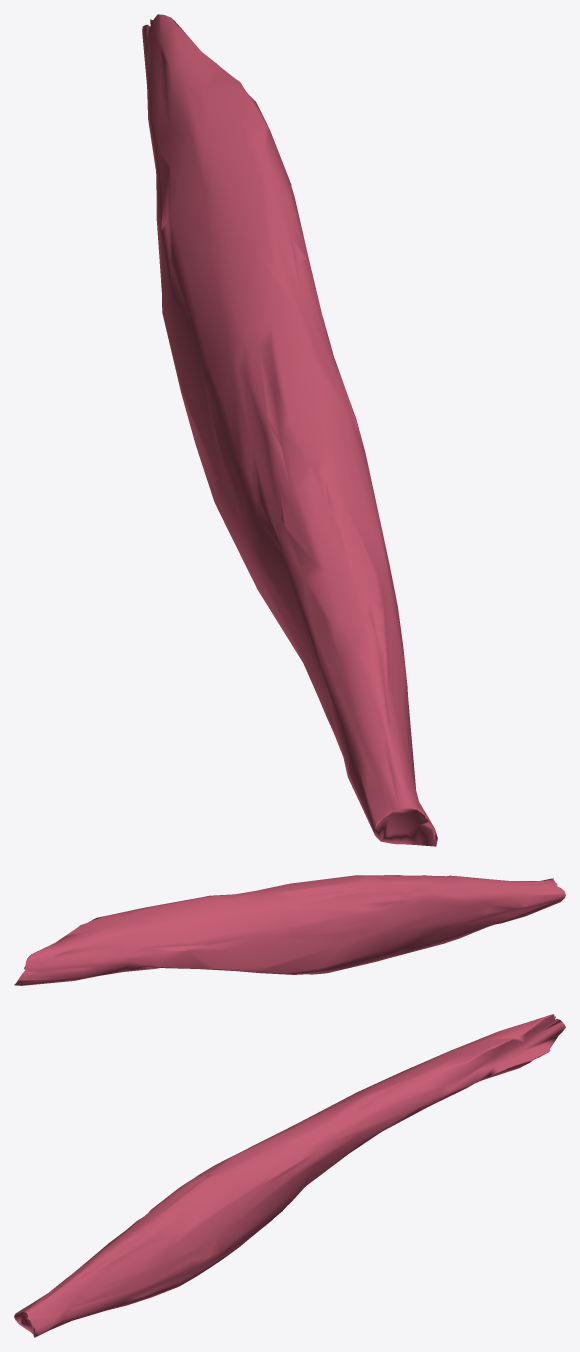
3 renders of one model, top to bottom at view 1: azimuth 30°, elevation 25°; view 2: azimuth 150°, elevation 25°; view 3: azimuth 330°, elevation 25°, orthographic. The views are drawn at different scales.
Parts seen in each view (by area): view 1: 左侧喙肱肌; view 2: 左侧喙肱肌; view 3: 左侧喙肱肌.
Part boxes in pixels (bbox=[...]): 左侧喙肱肌: bbox=[142, 14, 437, 846]; 左侧喙肱肌: bbox=[14, 875, 565, 985]; 左侧喙肱肌: bbox=[14, 1014, 565, 1337].
Bounding box in the file's own units: 0.0896 × 0.0516 × 0.2339.
